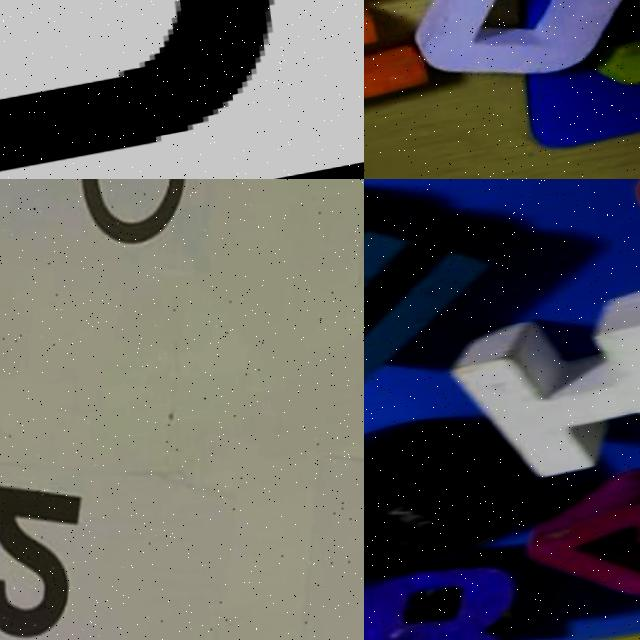0: (33, 179, 230, 284)
2: (0, 460, 113, 640)
B: (364, 553, 537, 640)
E: (364, 0, 433, 151)
G: (501, 462, 640, 620)
H: (435, 277, 640, 497)
M: (364, 179, 524, 399)
Q: (405, 0, 640, 113)
